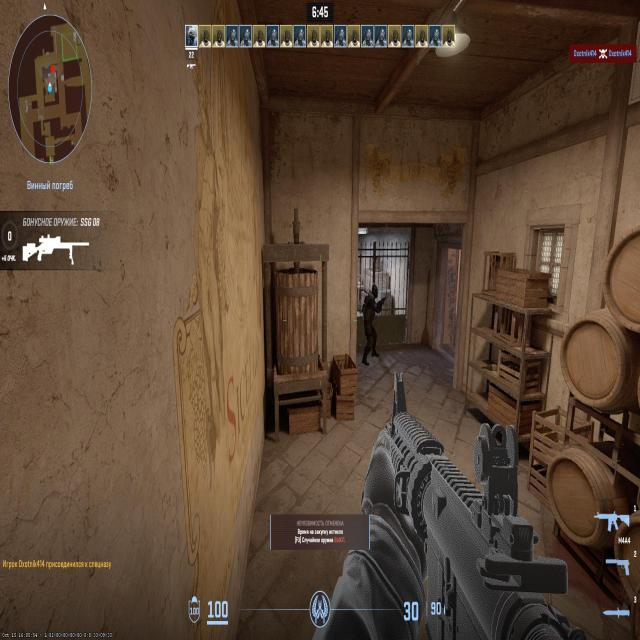CT: (368, 284, 378, 346)
CT_heat: (373, 288, 376, 300)
